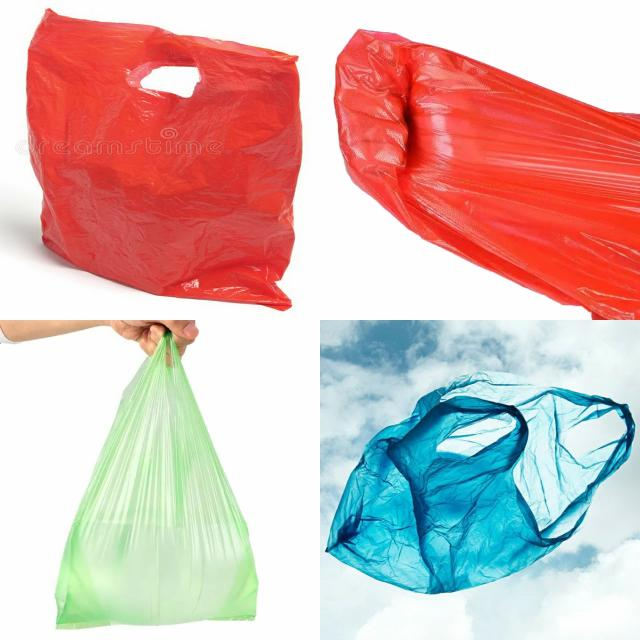Single-layer Plastic: (335, 30, 640, 319), (28, 10, 301, 310), (326, 372, 635, 593), (55, 334, 258, 629)
